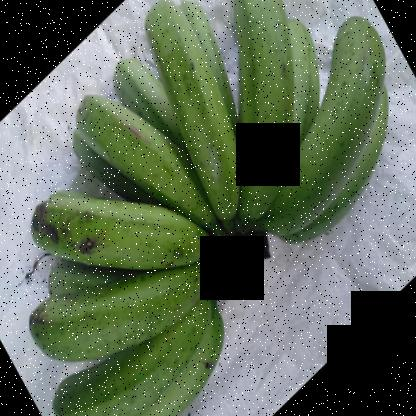rotten: (15, 198, 106, 262)
unripe: (277, 13, 386, 250), (143, 0, 242, 219), (20, 257, 212, 360), (16, 176, 215, 265), (44, 315, 216, 415), (228, 0, 294, 229)
